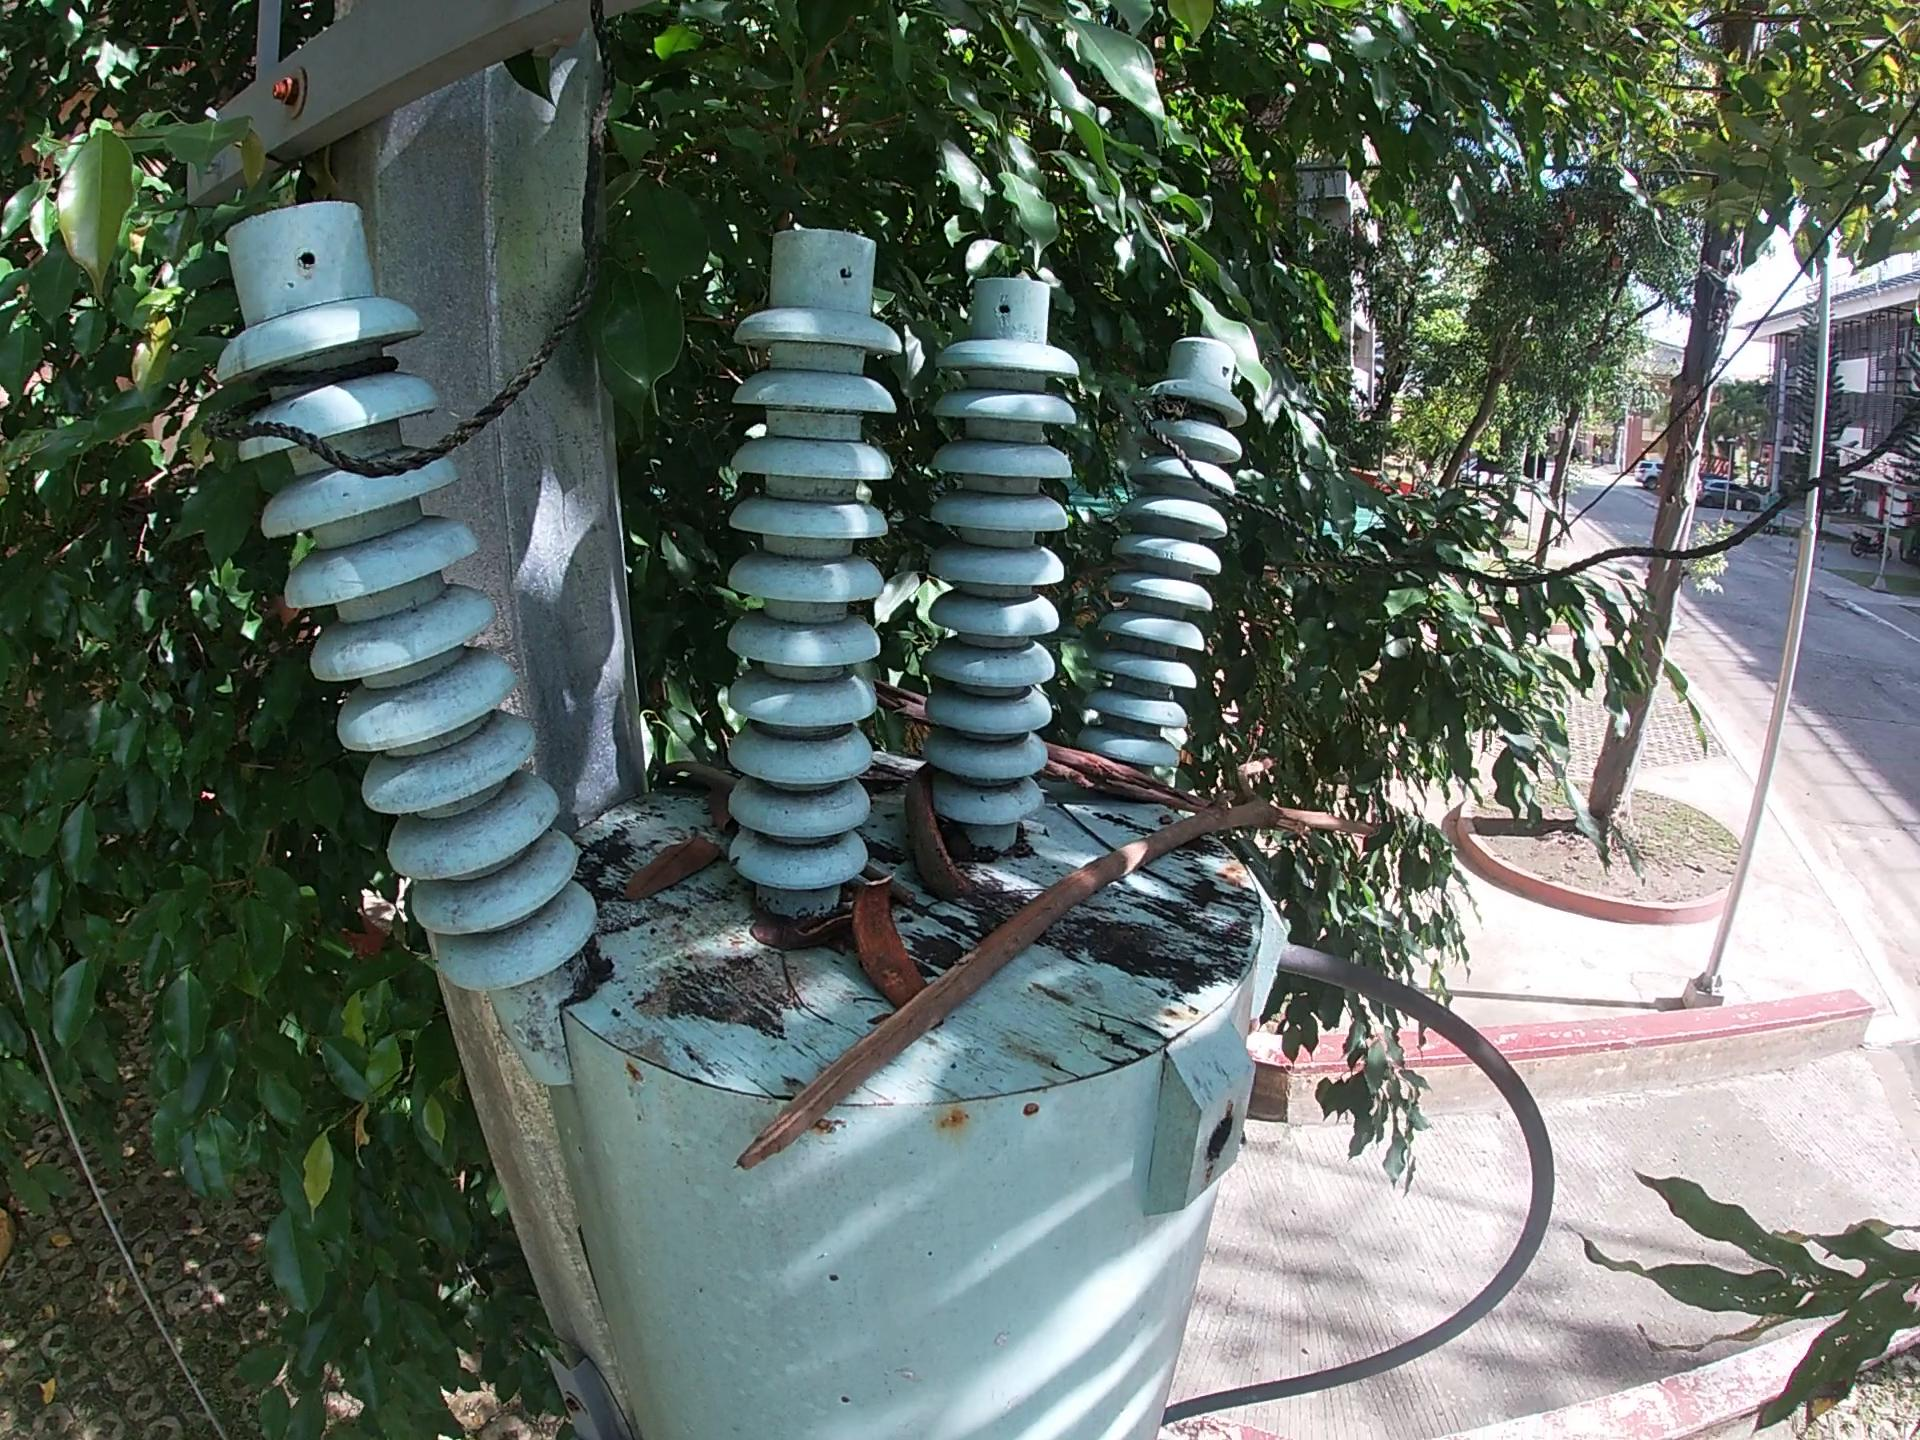leaf: (620, 824, 729, 909), (754, 905, 835, 954), (703, 784, 742, 841)
mahogany fruit: (850, 865, 931, 1012), (901, 756, 971, 900)
tree branch: (735, 753, 1385, 1175), (865, 678, 1222, 815), (636, 753, 741, 796), (862, 867, 928, 908)
